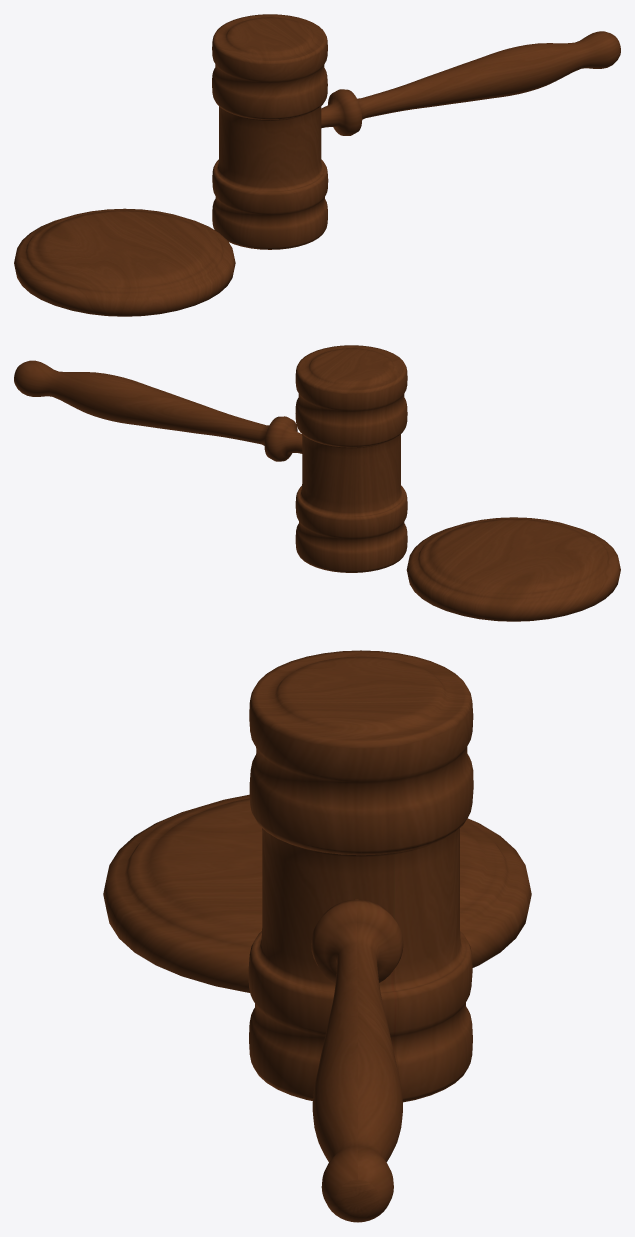
File: Beop.fbx
3 renders of one model, top to bottom at view 1: azimuth 30°, elevation 25°; view 2: azimuth 150°, elevation 25°; view 3: azimuth 270°, elevation 25°, orthographic. The views are drawn at different scales.
Parts seen in each view (by area): view 1: Beop, Beop2; view 2: Beop, Beop2; view 3: Beop, Beop2.
Boxes of the visible parts, left/top/right/bottom form: Beop: left=212, top=14, right=620, bottom=249; Beop2: left=14, top=208, right=235, bottom=316; Beop: left=14, top=345, right=407, bottom=572; Beop2: left=406, top=517, right=620, bottom=621; Beop: left=248, top=650, right=473, bottom=1222; Beop2: left=103, top=794, right=531, bottom=992.
Size of the model in its own units: 9.99 by 3.1 by 3.2.
Materials: 1 (1 with a texture image).
